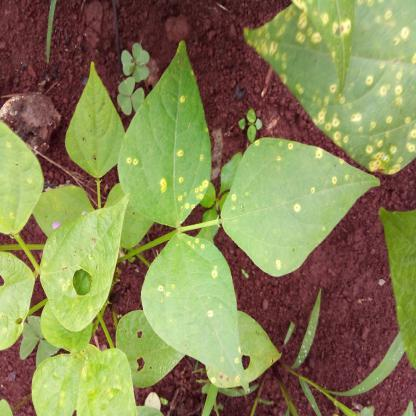Beans_Rust: (250, 0, 416, 176), (230, 132, 378, 275), (119, 49, 208, 228), (148, 232, 244, 387), (41, 195, 136, 336), (0, 121, 40, 228), (72, 351, 135, 416)
